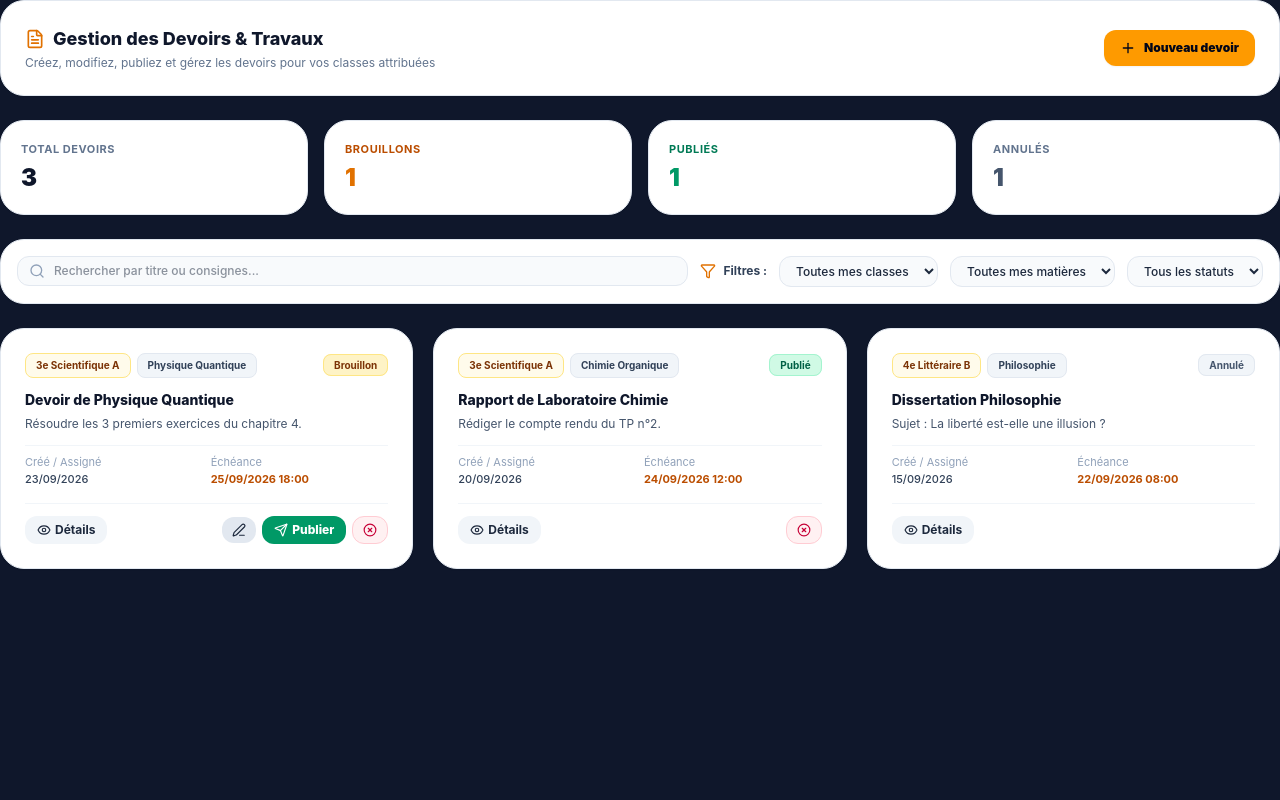
it: TeacherHomeworkModule — Suite de Tests Frontend Complète (24 scénarios) › 13. Désactive le bouton de soumission pendant la création
Expected: the heading "Devoir de Physique Quantique" is shown, [25,390,234,408]
Click the button "Nouveau devoir" at (1179, 48), box [1104,30,1255,66]
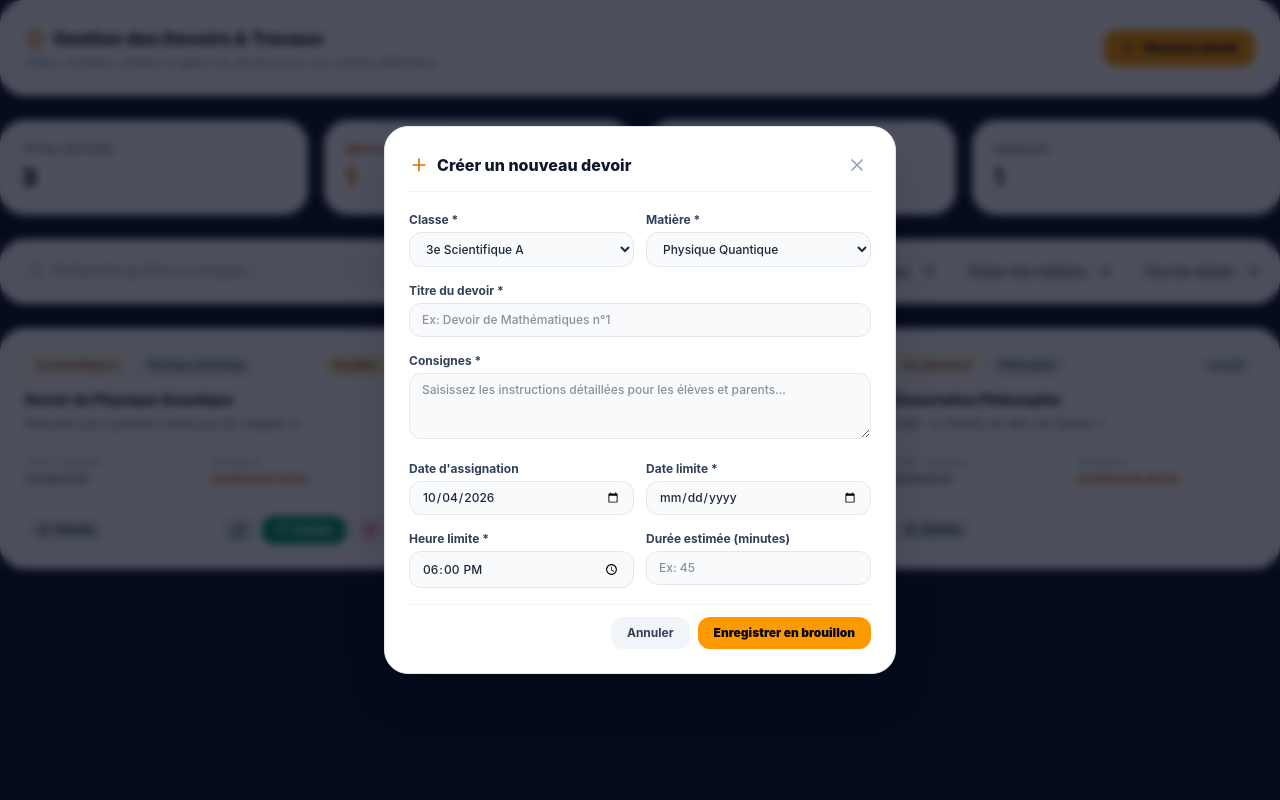
Select "3e Scientifique A" in the dropdown labelled "Classe *" at (522, 250), box [409,232,634,267]
Select "Physique Quantique" in the dropdown labelled "Matière *" at (758, 250), box [646,232,871,267]
Type "Test Doublon" into the field labelled "Titre du devoir *" at (640, 320), box [409,303,871,337]
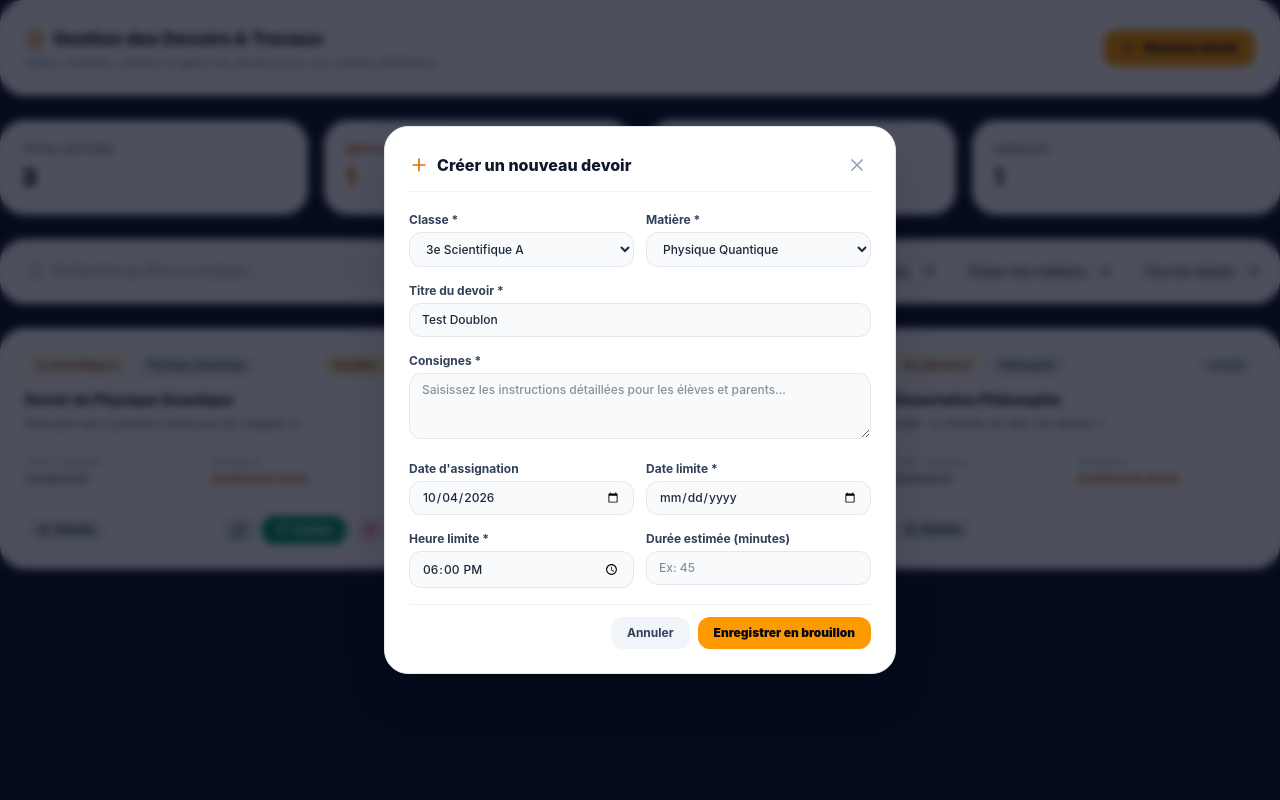
Replace the text in the text box labelled "Consignes *" with "Instructions" at (640, 406), box [409,373,871,439]
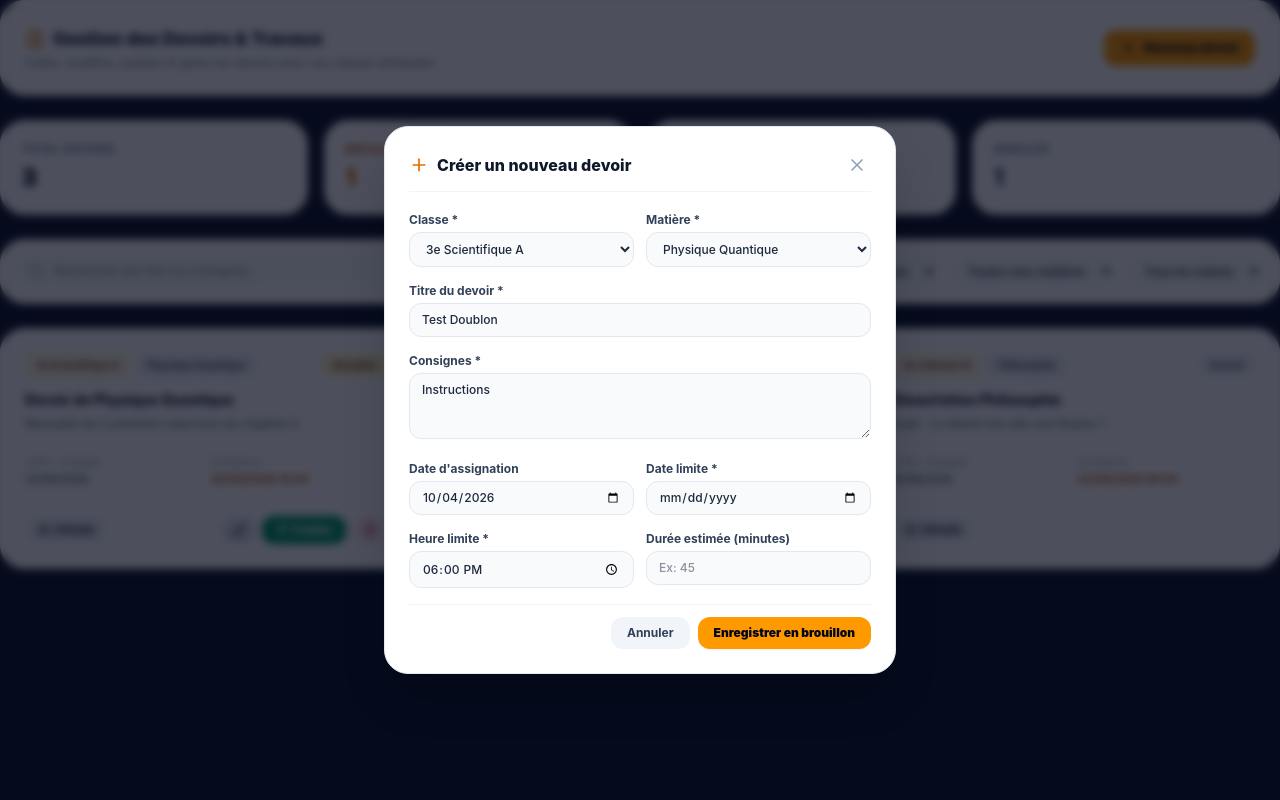
Type "2026-10-01" into the date field labelled "Date limite *" at (758, 498), box [646,481,871,515]
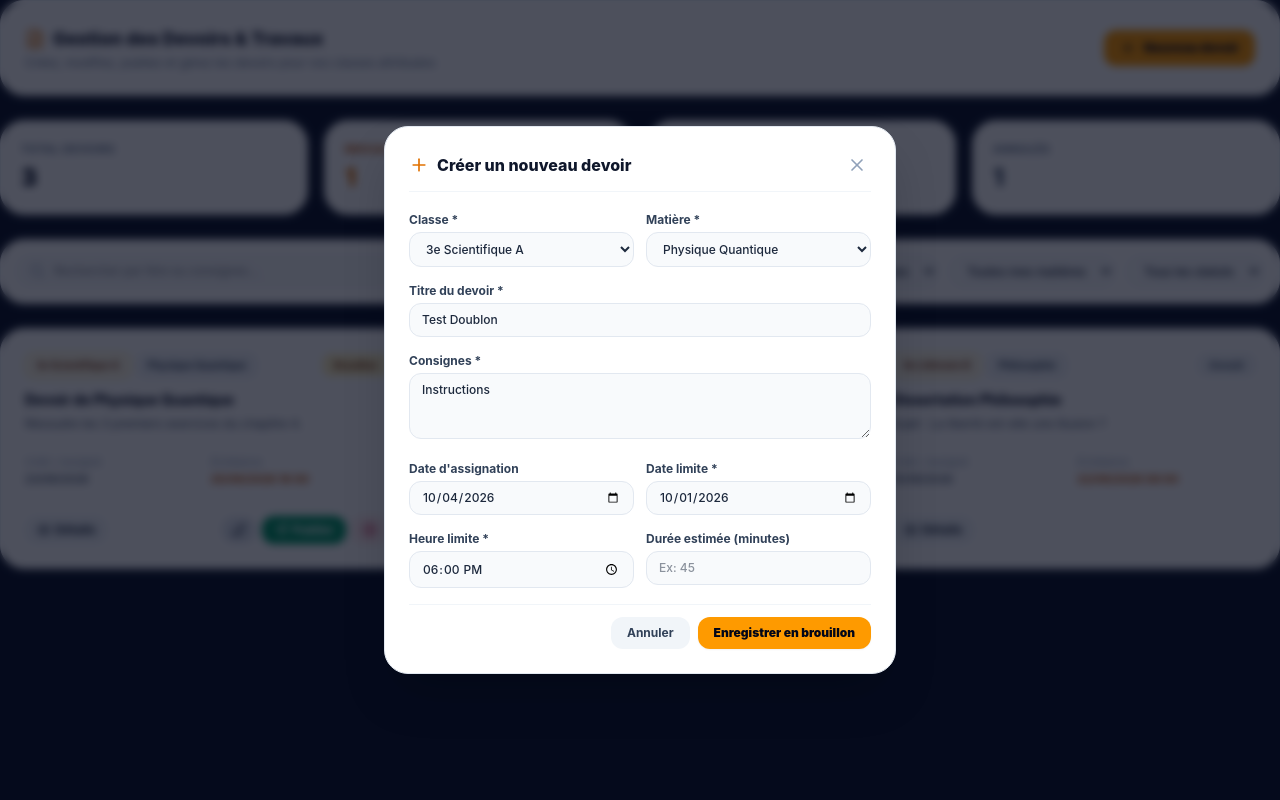
Click the button "Enregistrer en brouillon" at (784, 633), box [698,617,871,649]
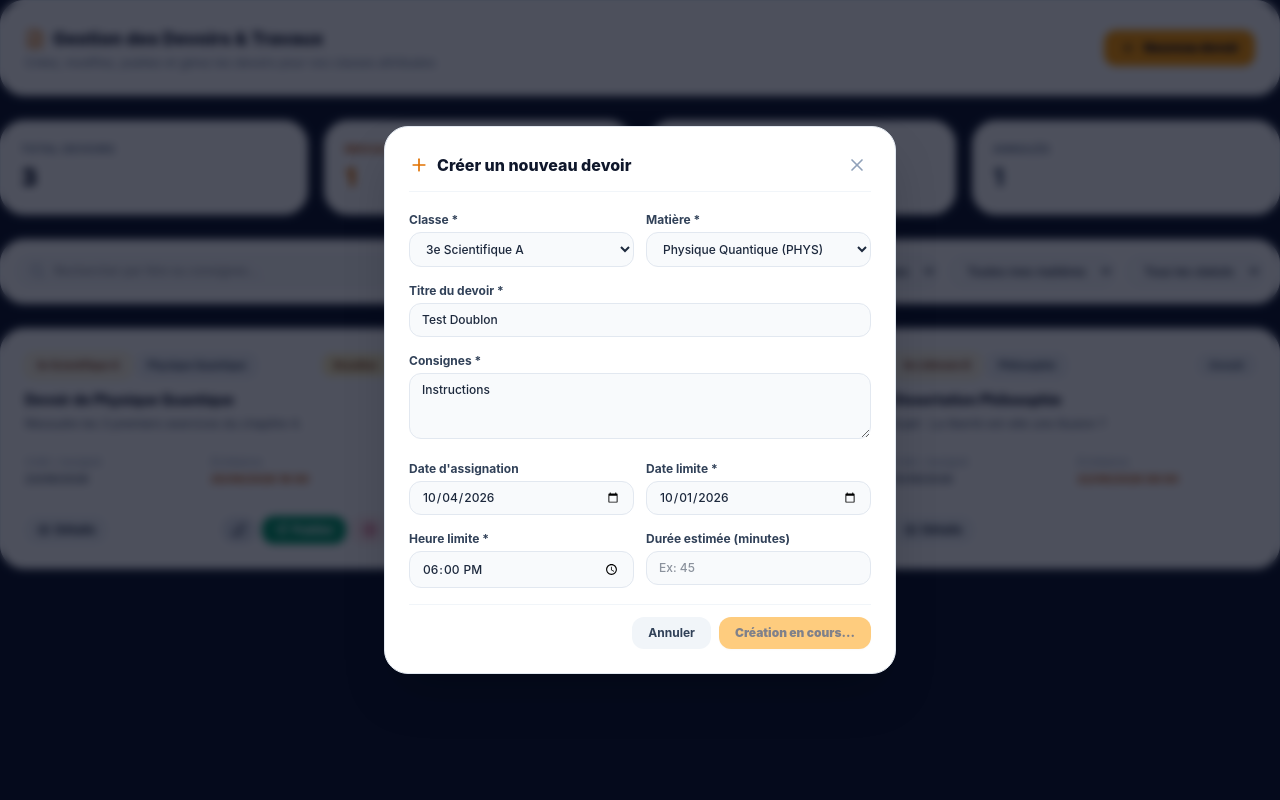
Result: the button named "Enregistrer en brouillon" is disabled at [719,617,871,649]
